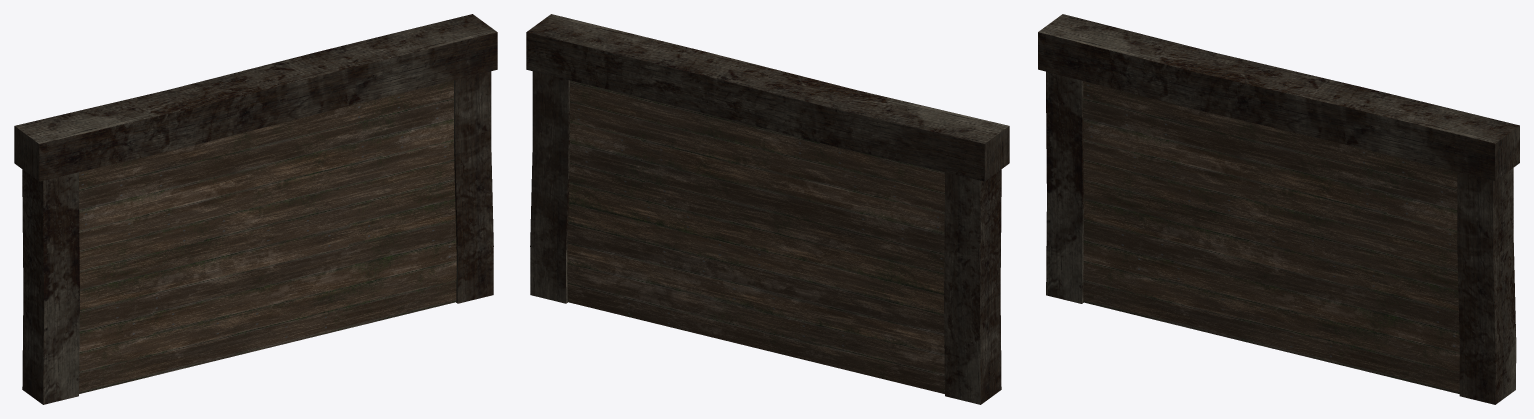
The model's file is WoodWall1.fbx.
3 renders of one model, left to right at view 1: azimuth 30°, elevation 25°; view 2: azimuth 150°, elevation 25°; view 3: azimuth 330°, elevation 25°, orthographic.
Parts seen in each view (by area): view 1: Wood Wall 4m; view 2: Wood Wall 4m; view 3: Wood Wall 4m.
Boxes of the visible parts, box(x1,y1,x2,y2) form: Wood Wall 4m: box(14, 14, 497, 404); Wood Wall 4m: box(526, 14, 1009, 404); Wood Wall 4m: box(1038, 14, 1519, 404).
Bounding box in the file's own units: 432 × 238 × 40.57.
